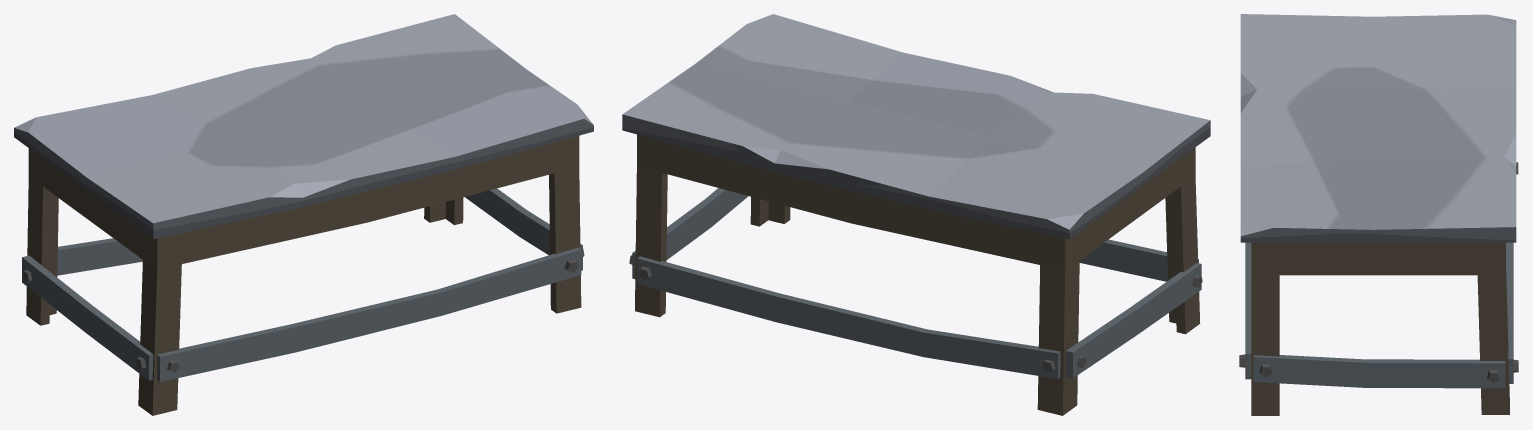
Rendered from SM_Prop_Table_Metal.fbx.
The picture shows the model from 3 angles, left to right: view 1: azimuth 30°, elevation 25°; view 2: azimuth 150°, elevation 25°; view 3: azimuth 270°, elevation 25°; orthographic projection. The views are drawn at different scales.
Visible parts, largest first — view 1: SM_Prop_Table_Metal; view 2: SM_Prop_Table_Metal; view 3: SM_Prop_Table_Metal.
Part boxes in pixels (x1,y1,x2,y2): SM_Prop_Table_Metal: [14, 14, 593, 415]; SM_Prop_Table_Metal: [622, 14, 1210, 415]; SM_Prop_Table_Metal: [1239, 14, 1518, 415].
Size of the model in its own units: 228 by 96.9 by 125.
